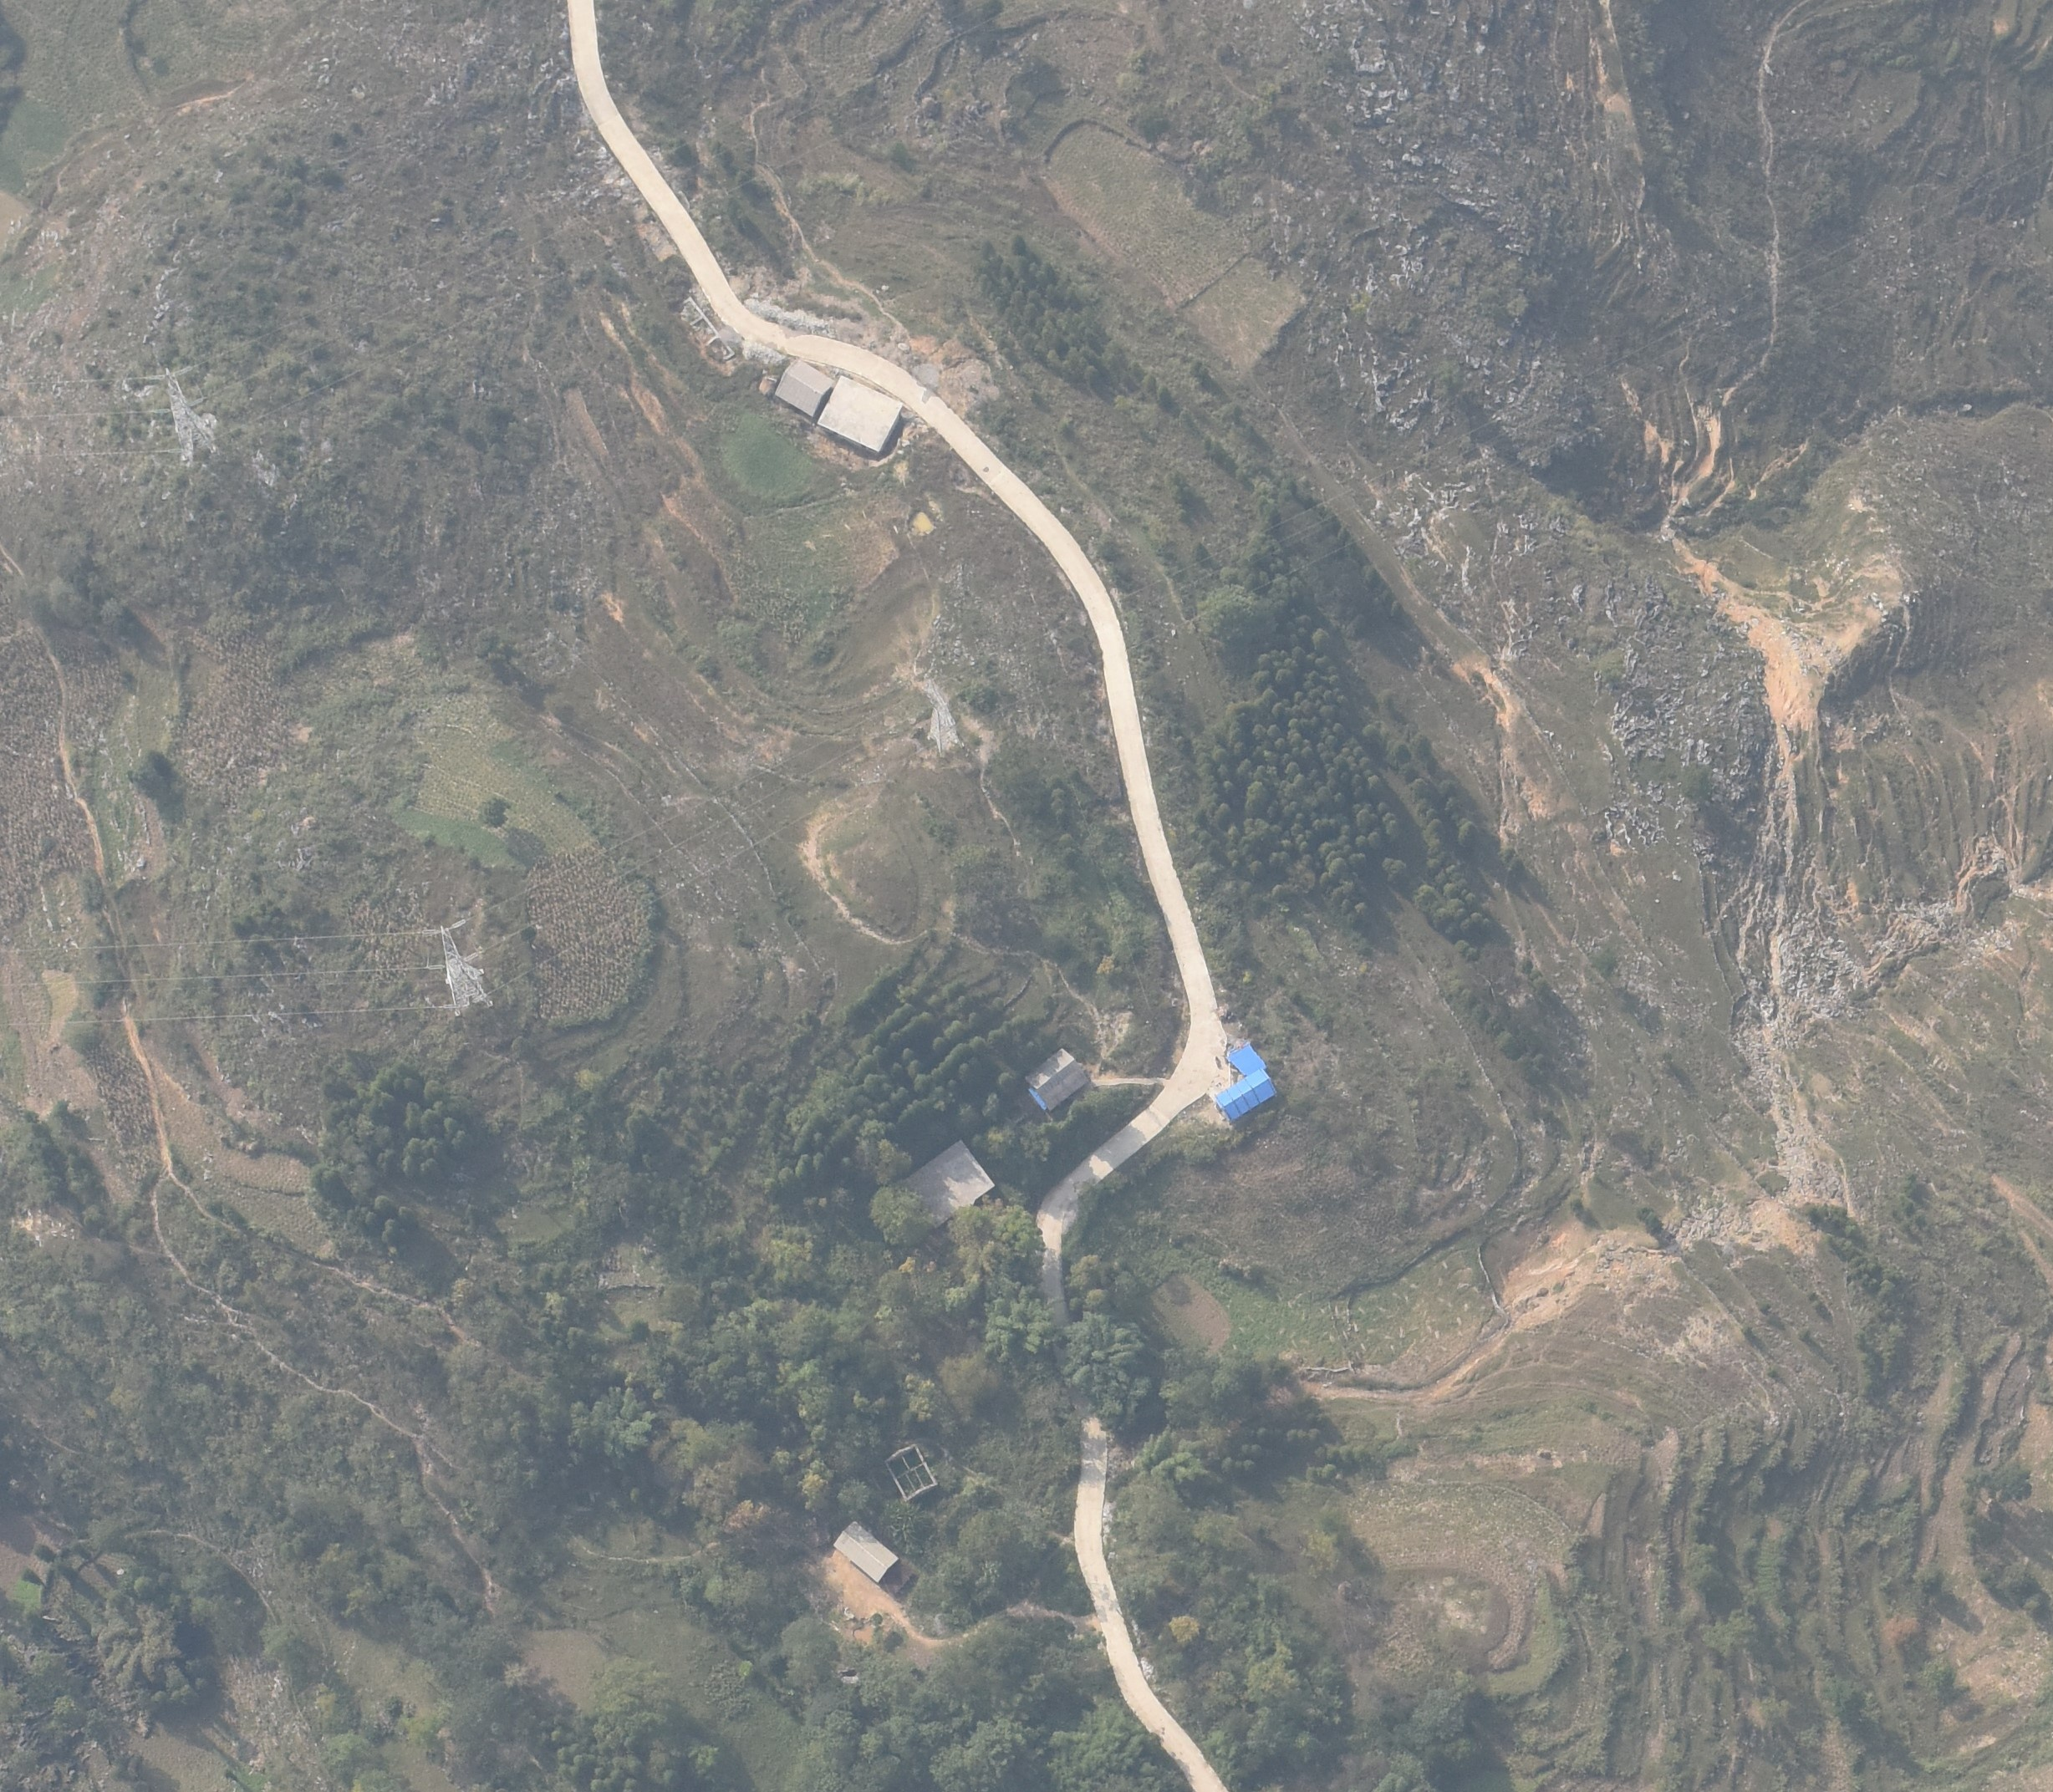building: (871, 1140, 995, 1232), (816, 375, 903, 453), (833, 1521, 899, 1585), (1025, 1048, 1088, 1112), (774, 359, 834, 417)
cable-tower: (441, 926, 493, 1016), (166, 369, 217, 460)
prefabricated-house: (1215, 1072, 1279, 1121), (1225, 1042, 1267, 1078)
